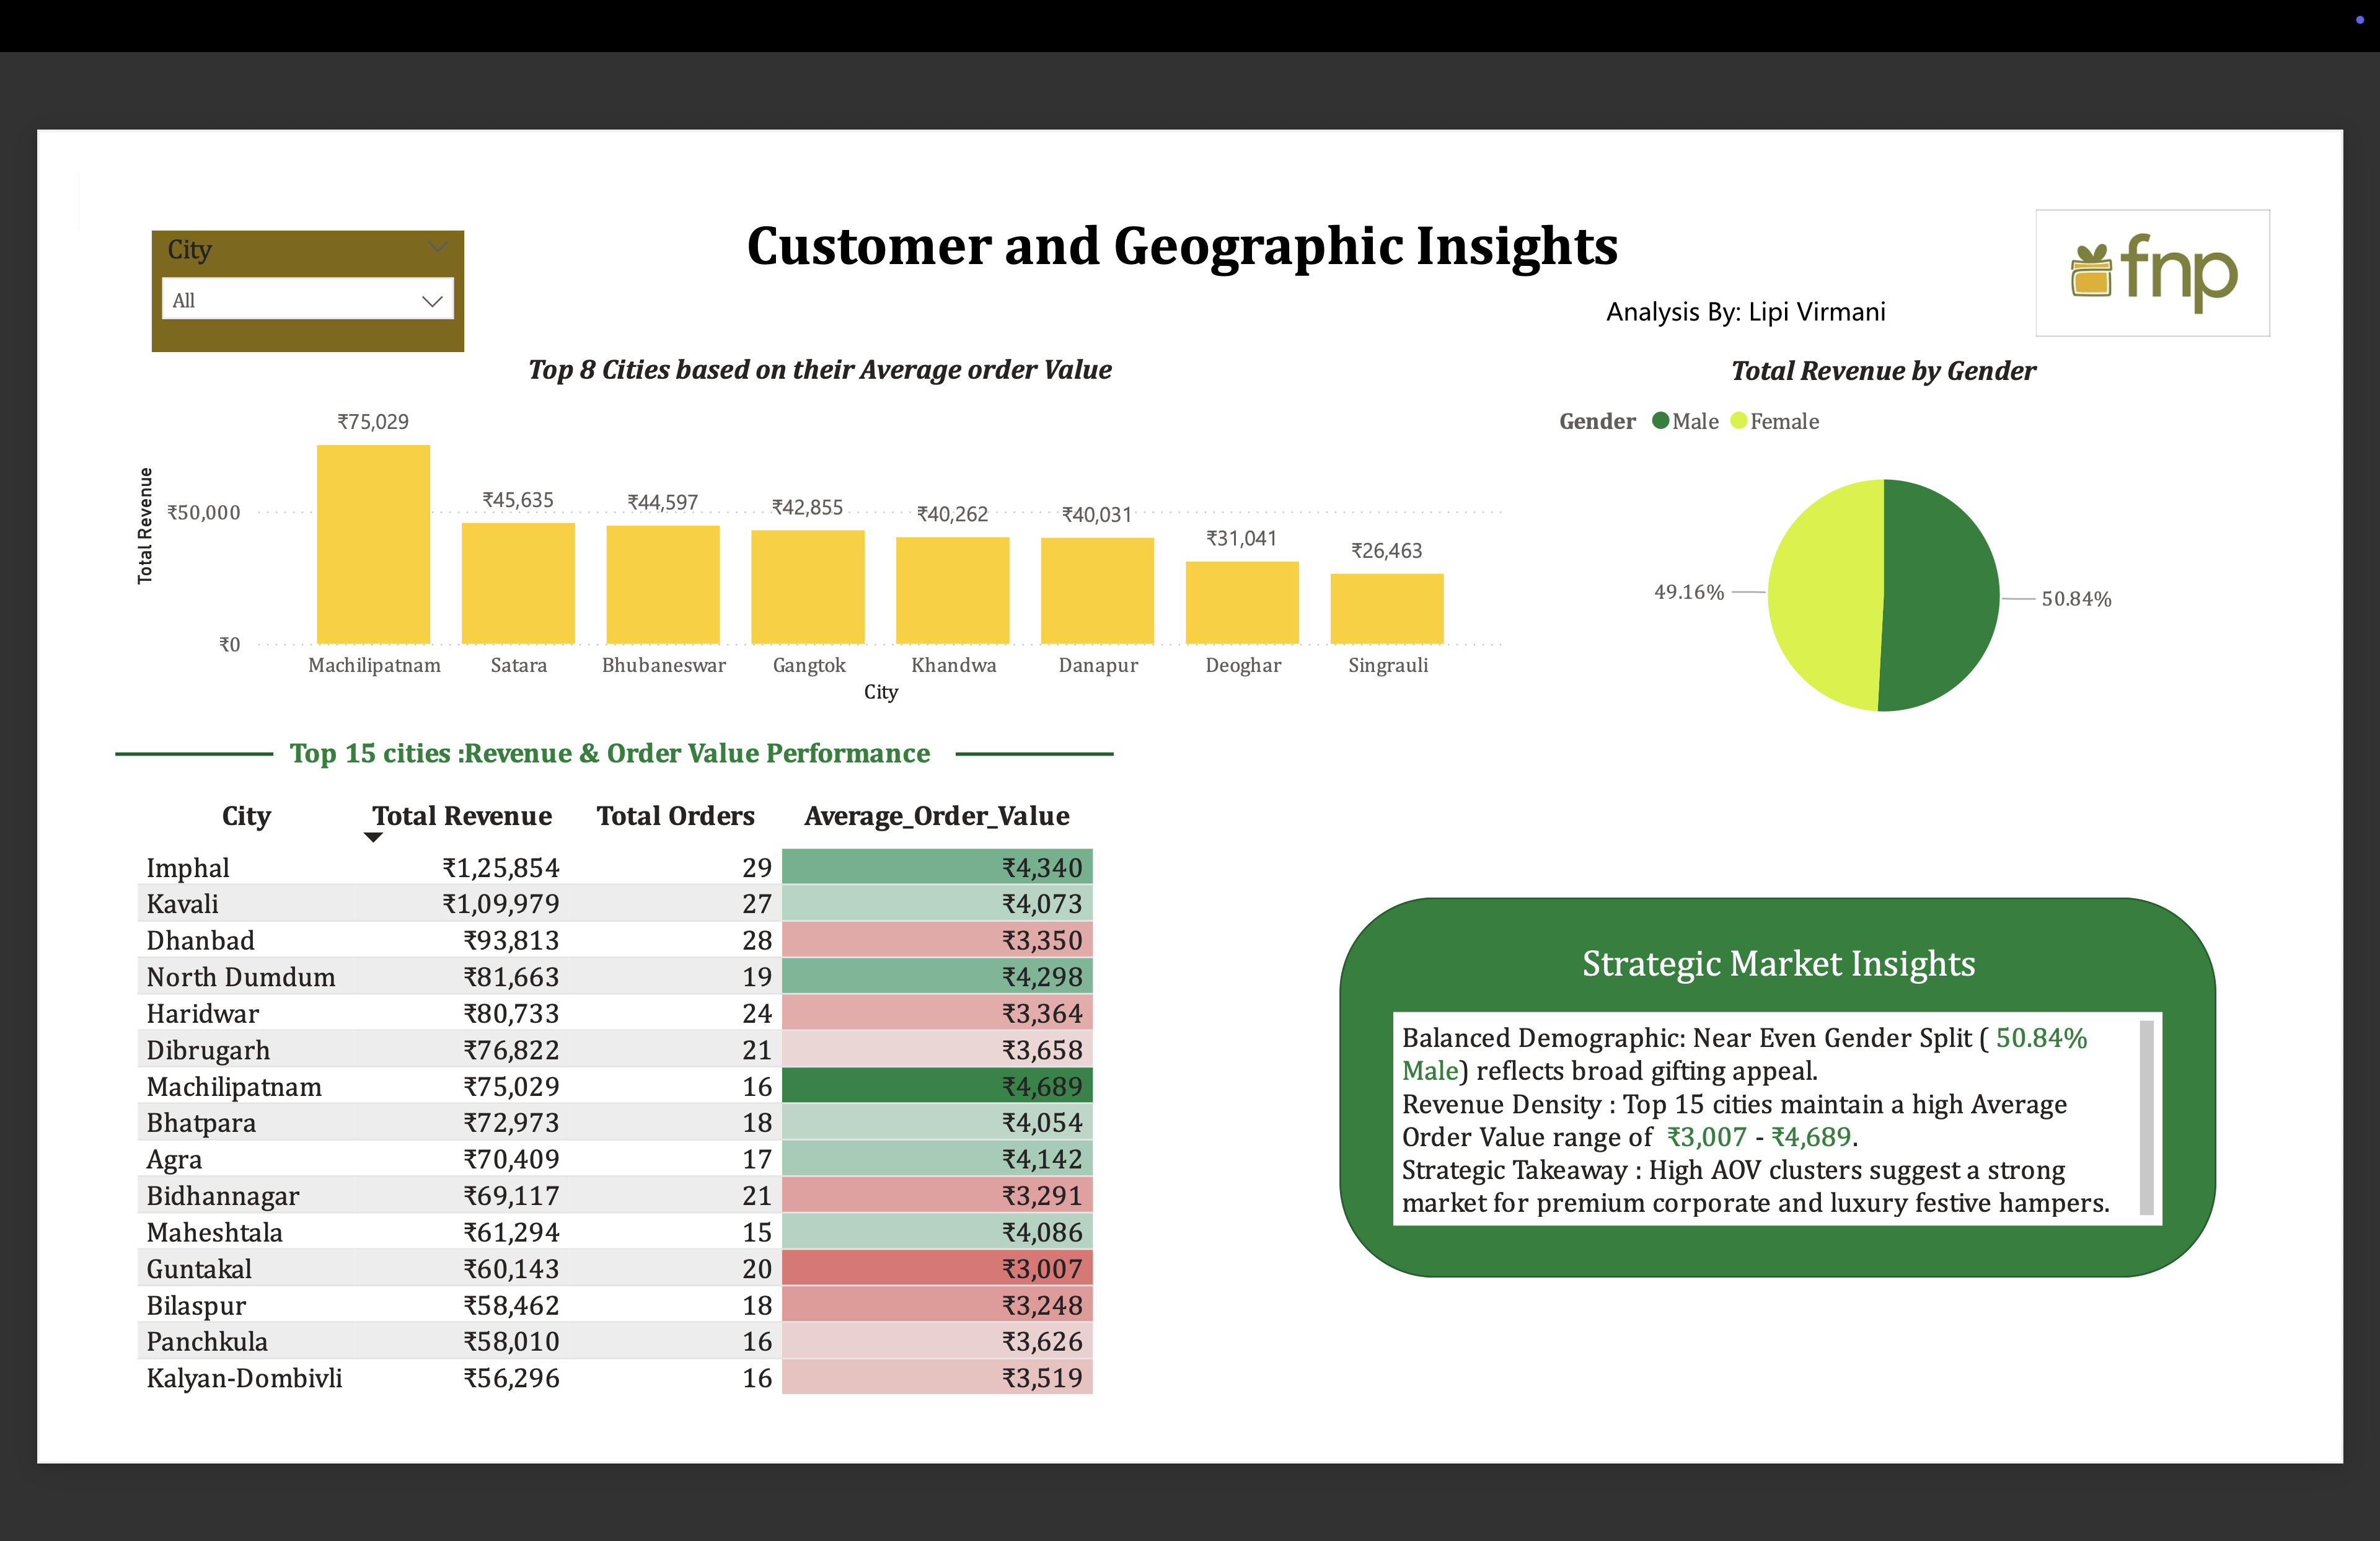

The dashboard page shown, as its layout file describes it:
{"tool":"powerbi","page":{"name":"Customer and Geographic","canvas":[1280,720],"ordinal":2},"visuals":[{"type":"shape","box":[726.4,417.9,504.8,218.8],"z":0,"group":"g1"},{"type":"textbox","box":[277.7,18.2,723.6,50.5],"z":1000},{"type":"image","box":[1122.5,15.1,144.1,86.4],"z":2000},{"type":"slicer","fields":{"Values":["customers.City"]},"box":[42.1,33.7,179.5,70.1],"z":3000},{"type":"clusteredColumnChart","title":"Top 8 Cities based on their Average order Value","fields":{"Category":["customers.City"],"Y":["customers.Total Revenue"]},"box":[28,103.8,797.9,207.5],"z":4000},{"type":"pieChart","fields":{"Category":["customers.Gender"],"Y":["customers.Total Revenue"]},"box":[848.4,105.2,382.8,230],"z":5000},{"type":"tableEx","fields":{"Values":["customers.City","customers.Total Revenue","customers.Total Orders","customers.Average_Order_Value"]},"box":[28,354.8,661.9,364.6],"z":6000},{"type":"textbox","box":[106.6,319.7,398.2,40.7],"z":7000},{"type":"shape","box":[504.8,319.7,91.1,30.9],"z":8000},{"type":"shape","box":[21,319.7,91.1,30.9],"z":9000},{"type":"textbox","box":[757.3,483.8,443.1,123.4],"z":10500,"group":"g1"},{"type":"group","id":"g1","title":"Group 1","box":[726.4,417.9,504.8,218.8],"z":10501},{"type":"textbox","box":[806.3,437.5,346.4,46.3],"z":10502}]}

Visuals, with their boxes on the page's 1280x720 design canvas (x1, y1, x2, y2). These are canvas units, not pixel positions in the 2380x1541 screenshot, which may show the page scaled, cropped or inside an application window:
shape: bbox(726, 418, 1231, 637)
textbox: bbox(278, 18, 1001, 69)
image: bbox(1122, 15, 1267, 102)
slicer - customers.City: bbox(42, 34, 222, 104)
"Top 8 Cities based on their Average order Value" clusteredColumnChart: bbox(28, 104, 826, 311)
pieChart - customers.Gender x customers.Total Revenue: bbox(848, 105, 1231, 335)
tableEx - customers.City x customers.Total Revenue: bbox(28, 355, 690, 719)
textbox: bbox(107, 320, 505, 360)
shape: bbox(505, 320, 596, 351)
shape: bbox(21, 320, 112, 351)
textbox: bbox(757, 484, 1200, 607)
"Group 1" group: bbox(726, 418, 1231, 637)
textbox: bbox(806, 438, 1153, 484)
